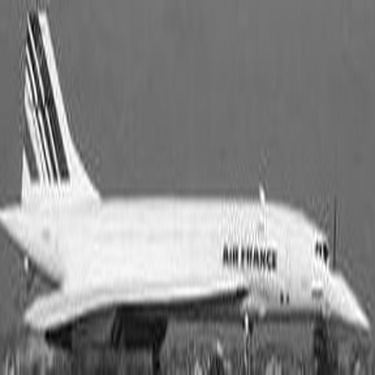airplane: (1, 2, 369, 372)
